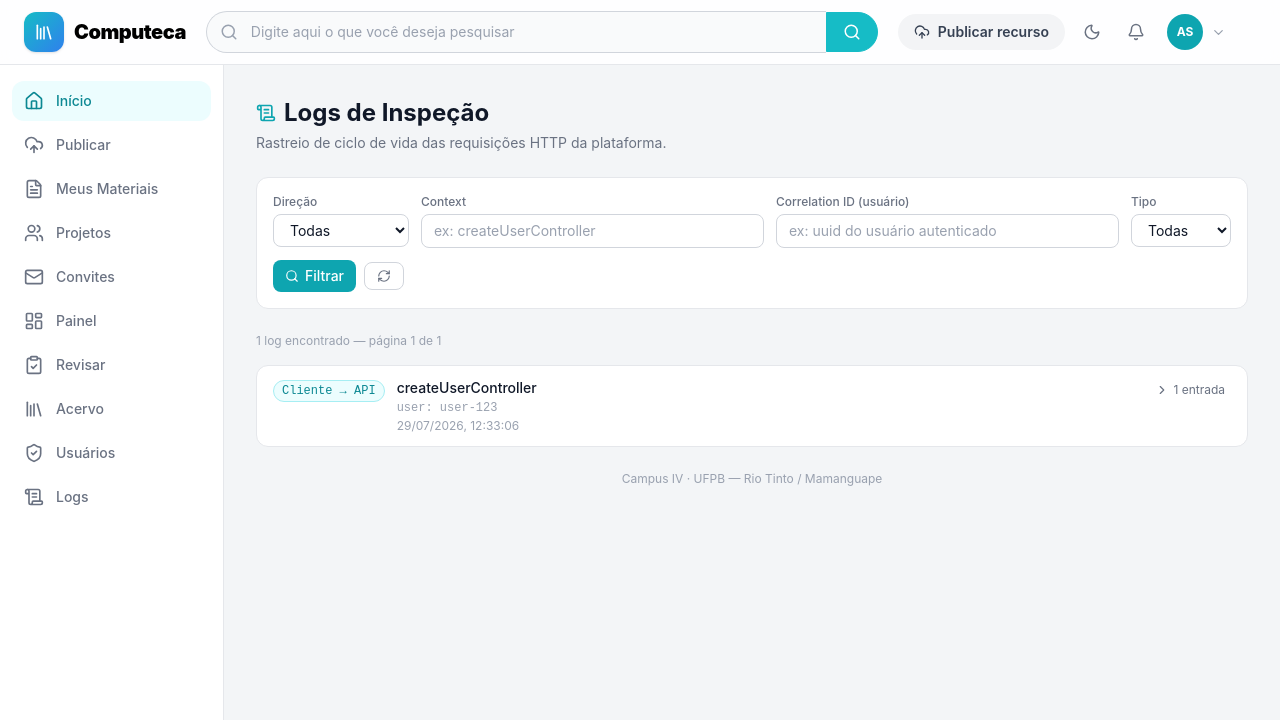
it: AdminLogsPage › expande o payload do log
Click the button "1 entrada" at (1190,390), box left=1149, top=378, right=1231, bottom=402
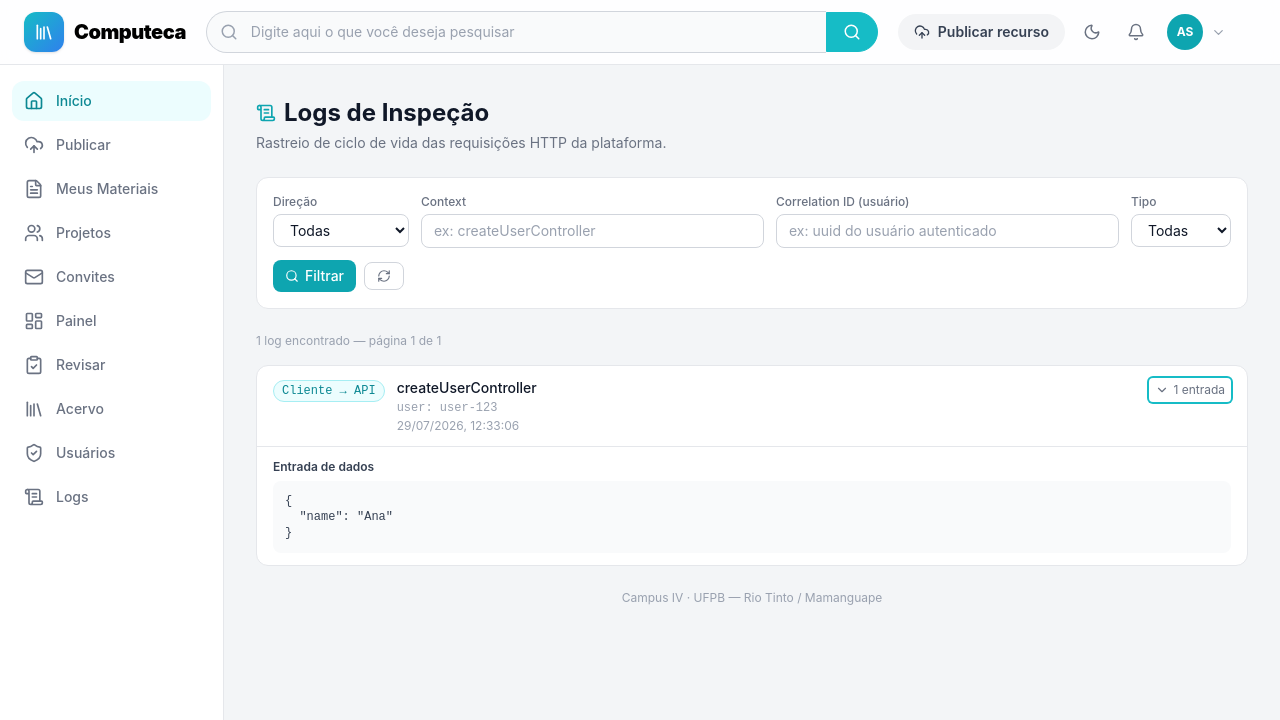
Expected: the text "Entrada de dados" is shown, left=273, top=459, right=374, bottom=474
